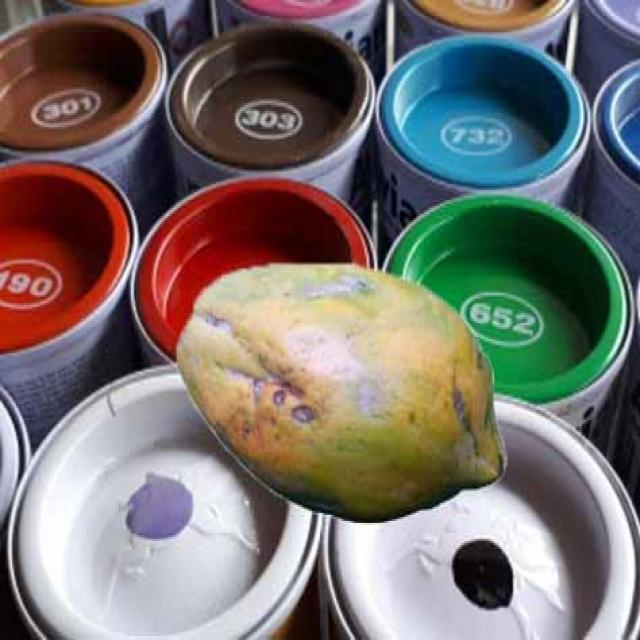Pepaya rippen: (178, 256, 508, 531)
